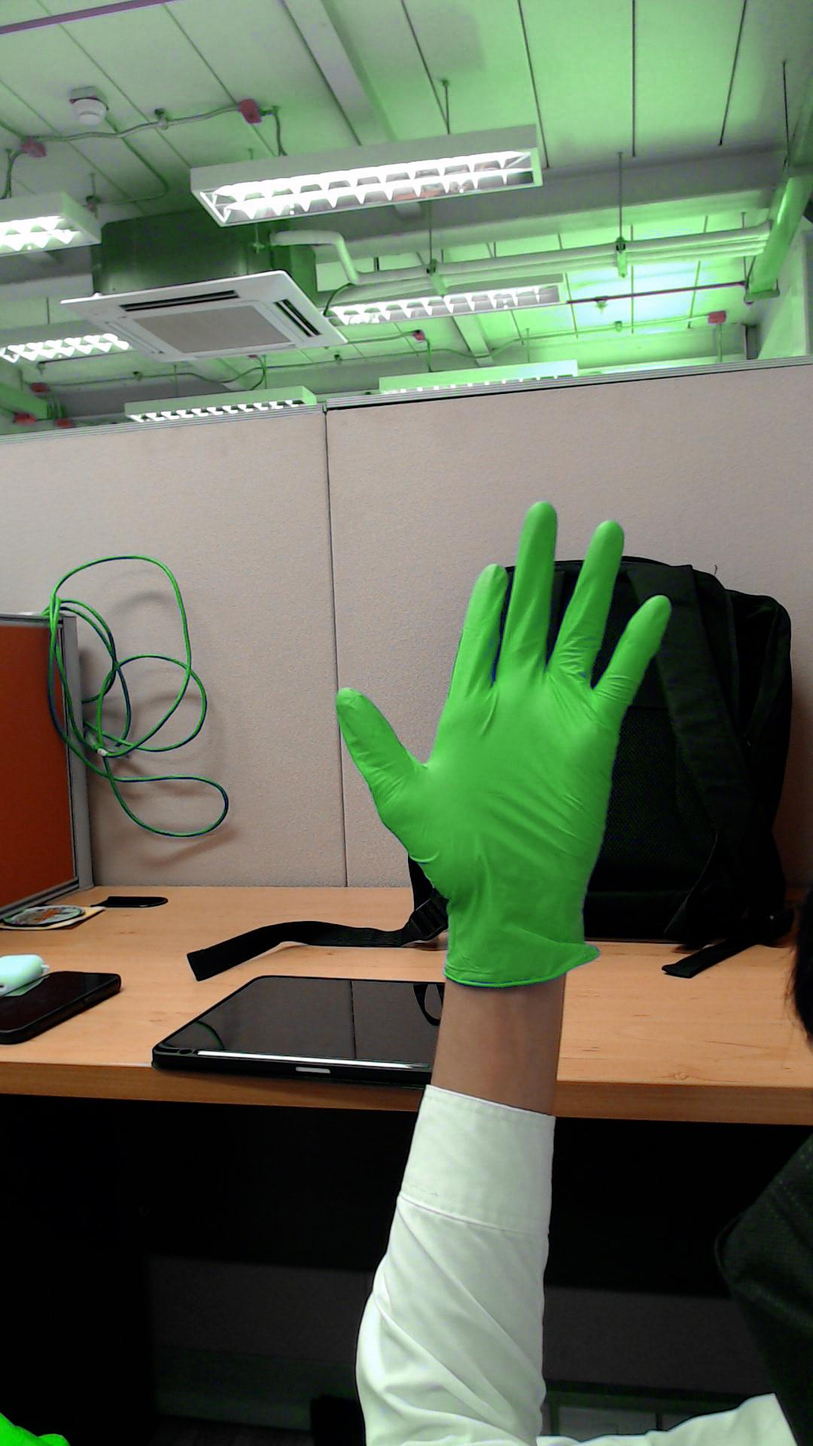gloves: (329, 482, 678, 874)
